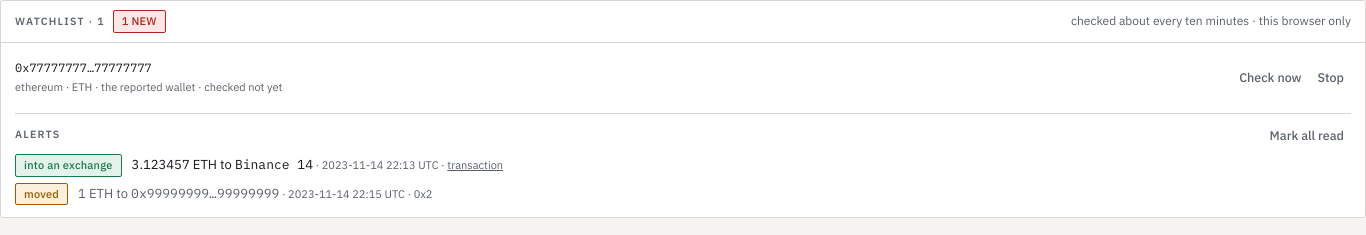
Test: Watchlist on the home page › lists watches and alerts, and marks them read
This screenshot has width=1366, height=235.
Expected: the text "1 new" is shown, [113,10,166,32]
Expected: the text "into an exchange" is shown, [15,154,122,177]
Click the button "Mark all read".
click(1307, 135)  # box [1263,122,1351,148]
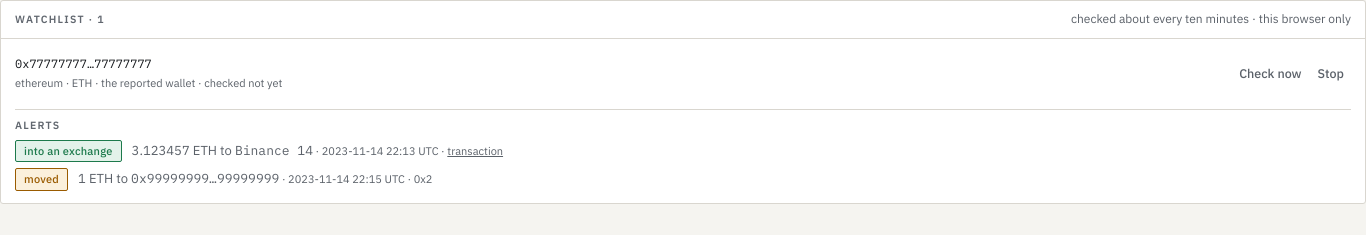
Now the text "1 new" is gone
